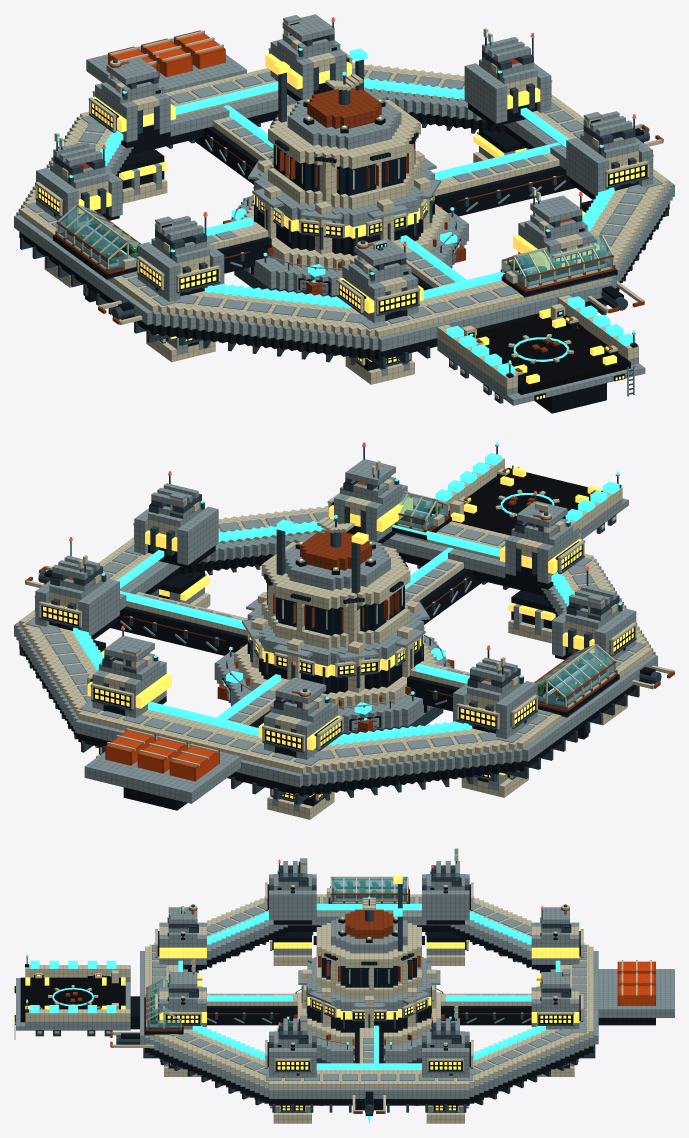
File: wayfarer_core.glb
The picture shows the model from 3 angles, top to bottom: view 1: azimuth 30°, elevation 25°; view 2: azimuth 150°, elevation 25°; view 3: azimuth 270°, elevation 25°; orthographic projection. The views are drawn at different scales.
Parts seen in each view (by area): view 1: Core voxel hull / module, Core / detailed architecture and vacuum service fixtures / m, Core / installed service detail / module, Core_Greenhouse_1_FrameAndPlanting / module, Core_Greenhouse_2_FrameAndPlanting / module, Core_Greenhouse_2_Glazing / module, Core_Greenhouse_1_Glazing / module, Core / tracking radar / module; view 2: Core voxel hull / module, Core / detailed architecture and vacuum service fixtures / m, Core / installed service detail / module, Core_Greenhouse_1_FrameAndPlanting / module, Core_Greenhouse_1_Glazing / module, Core_Greenhouse_2_FrameAndPlanting / module, Core_Greenhouse_2_Glazing / module, Core / tracking radar / module; view 3: Core voxel hull / module, Core / detailed architecture and vacuum service fixtures / m, Core / installed service detail / module, Core_Greenhouse_1_FrameAndPlanting / module, Core_Greenhouse_1_Glazing / module, Core_Greenhouse_2_FrameAndPlanting / module, Core_Greenhouse_2_Glazing / module.
Boxes of the visible parts, x1,y1,x2,y2 form: Core voxel hull / module: [14, 14, 674, 413]; Core / detailed architecture and vacuum service fixtures / m: [35, 15, 653, 403]; Core / installed service detail / module: [20, 30, 668, 369]; Core_Greenhouse_1_FrameAndPlanting / module: [53, 204, 140, 278]; Core_Greenhouse_2_FrameAndPlanting / module: [500, 234, 617, 296]; Core_Greenhouse_2_Glazing / module: [502, 236, 612, 286]; Core_Greenhouse_1_Glazing / module: [57, 206, 139, 269]; Core / tracking radar / module: [325, 71, 363, 105]; Core voxel hull / module: [14, 453, 657, 819]; Core / detailed architecture and vacuum service fixtures / m: [34, 442, 637, 803]; Core / installed service detail / module: [19, 489, 674, 804]; Core_Greenhouse_1_FrameAndPlanting / module: [534, 644, 619, 716]; Core_Greenhouse_1_Glazing / module: [536, 646, 615, 707]; Core_Greenhouse_2_FrameAndPlanting / module: [392, 491, 451, 539]; Core_Greenhouse_2_Glazing / module: [397, 493, 447, 529]; Core / tracking radar / module: [317, 515, 354, 547]; Core voxel hull / module: [16, 861, 674, 1123]; Core / detailed architecture and vacuum service fixtures / m: [14, 848, 583, 1112]; Core / installed service detail / module: [48, 897, 655, 1114]; Core_Greenhouse_1_FrameAndPlanting / module: [326, 876, 409, 903]; Core_Greenhouse_1_Glazing / module: [331, 878, 406, 901]; Core_Greenhouse_2_FrameAndPlanting / module: [144, 978, 183, 1034]; Core_Greenhouse_2_Glazing / module: [147, 979, 180, 1027].
Bounding box in the file's own units: 70.51 × 26.65 × 89.96.
Materials: 13 (13 with a texture image).
